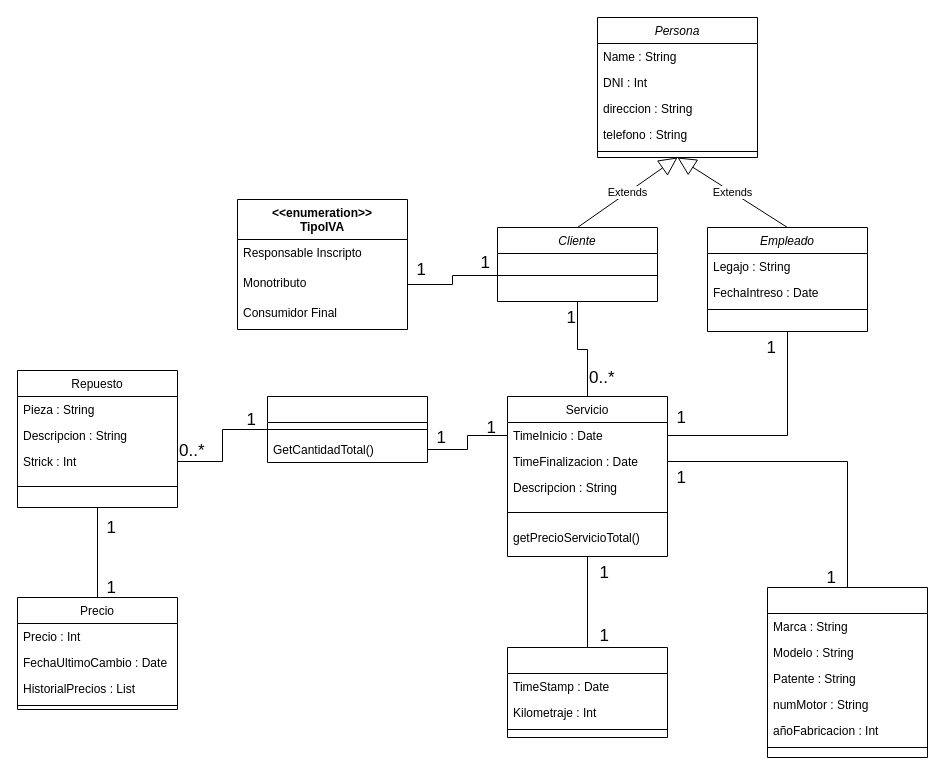
Image size: 945x775. Some labels were removed from this diagram. The box of each missing label's shape, as (x1, y1, x2, y2) in pixels:
IngresoVehiculo: (506, 646, 668, 738)
LineaRepuestos: (266, 396, 428, 462)
Vahiculo: (766, 586, 928, 758)
